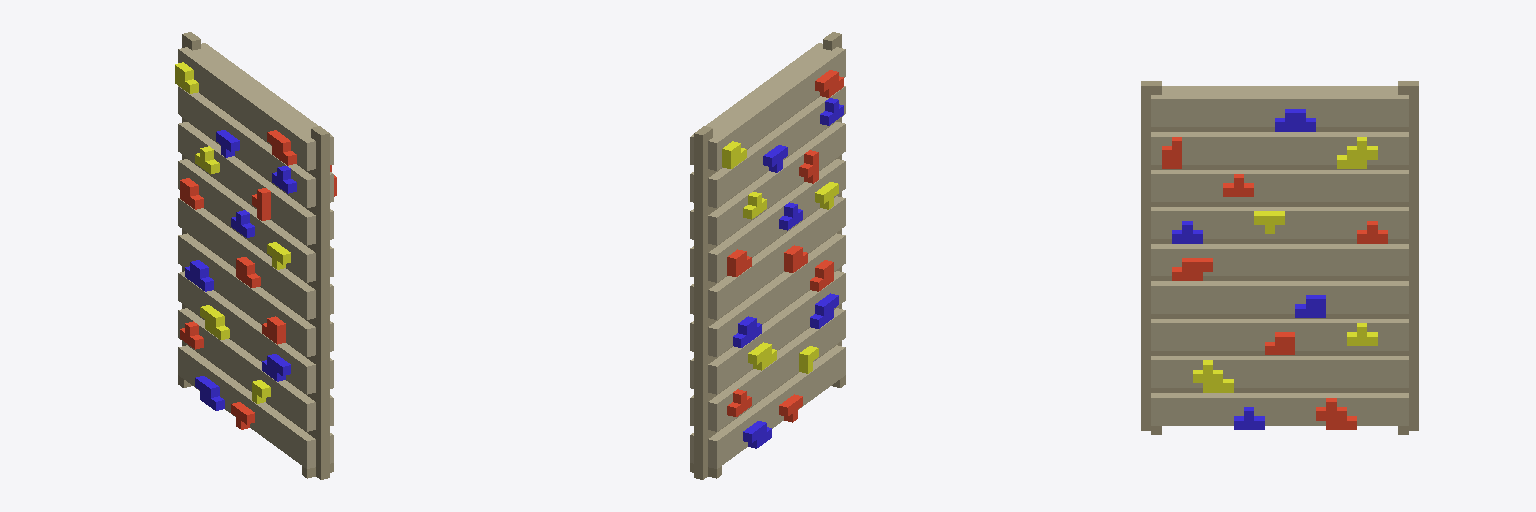
The picture shows the model from 3 angles: view 1: azimuth 30°, elevation 25°; view 2: azimuth 150°, elevation 25°; view 3: azimuth 270°, elevation 25°; orthographic projection.
Visible parts, largest first — view 1: Box_77; view 2: Box_77; view 3: Box_77.
Part boxes in pixels (x1,y1,x2,y2): Box_77: (175,32,336,479); Box_77: (690,32,845,479); Box_77: (1141,81,1418,434).
Size of the model in its own units: 5 by 37 by 27.
1 materials, 1 textured.